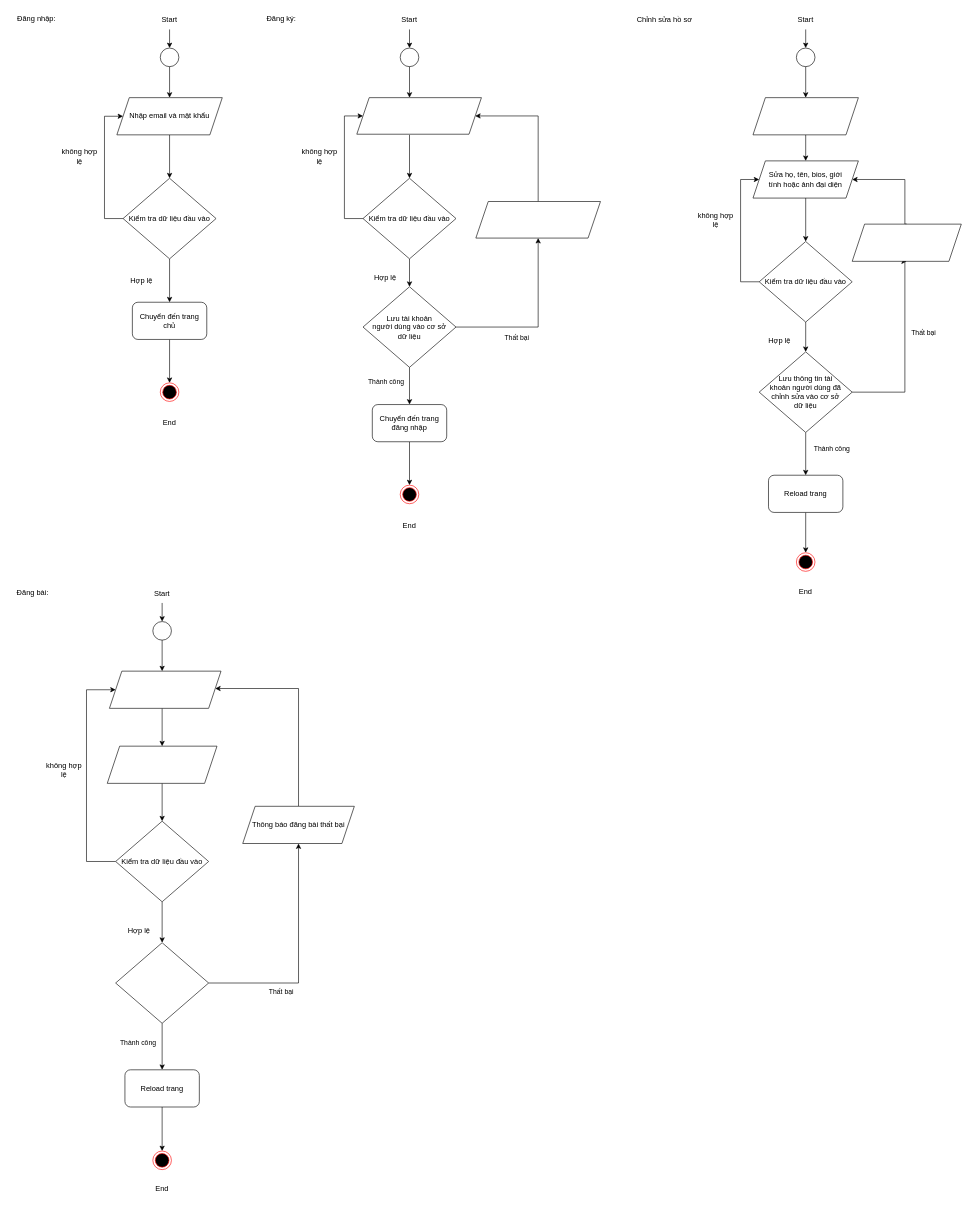
Some shapes in this 972 by 1208 pixel diagram are drawn without their labels. Here are the shapes that lost their labels. From the top down, the box of each, then its label:
(356, 97, 481, 134): Nhập họ, tên, mssv, ngày sinh, email, mật khẩu và xác nhận mật khẩu
(752, 97, 858, 135): Thông tin người dung
(475, 201, 600, 238): Thông báo tạo tài khoản thất bại
(852, 224, 961, 261): Thông báo chỉnh sửa thông tin thất bại
(109, 671, 221, 708): Nhập nội dung bài đăng (có thể thêm hình ảnh hoặc tệp)
(107, 746, 217, 783): Chọn phạm vi hiển thị
(115, 942, 209, 1023): Lưu bài đăng vào cơ sở dữ liệu
